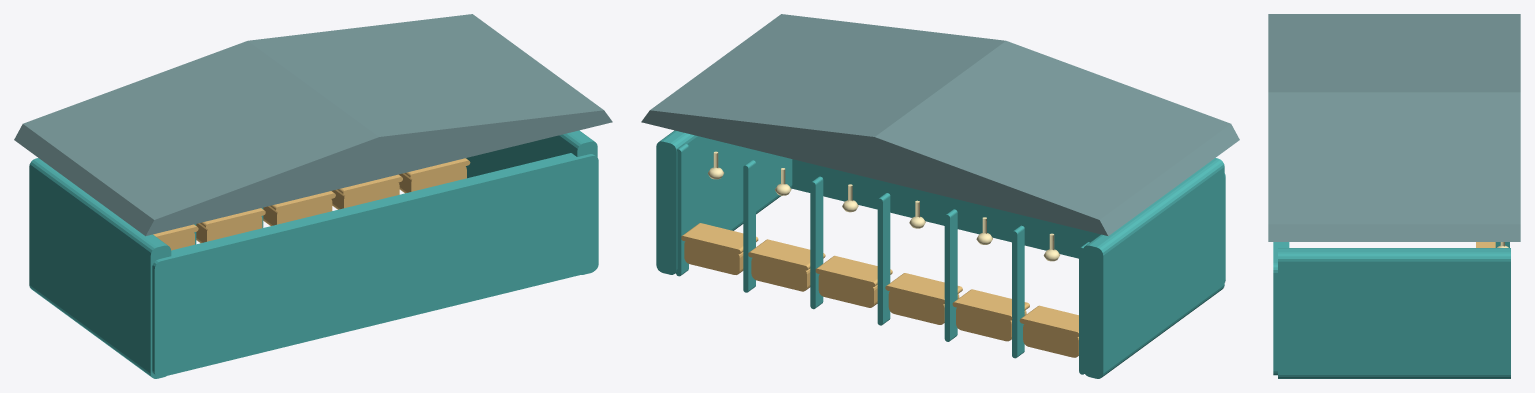
File: hawker-centre.glb
The picture shows the model from 3 angles, left to right: view 1: azimuth 30°, elevation 25°; view 2: azimuth 150°, elevation 25°; view 3: azimuth 270°, elevation 25°; orthographic projection. The views are drawn at different scales.
Parts seen in each view (by area): view 1: open_frontage, roof_profile, stall_rhythm; view 2: roof_profile, open_frontage, stall_rhythm, ceiling_light_housings; view 3: roof_profile, open_frontage.
Part boxes in pixels (bbox=[...]): open_frontage: bbox=[29, 130, 598, 378]; roof_profile: bbox=[14, 14, 612, 236]; stall_rhythm: bbox=[153, 158, 470, 250]; roof_profile: bbox=[641, 14, 1239, 236]; open_frontage: bbox=[656, 130, 1225, 378]; stall_rhythm: bbox=[681, 223, 1078, 357]; ceiling_light_housings: bbox=[707, 151, 1059, 261]; roof_profile: bbox=[1268, 14, 1520, 241]; open_frontage: bbox=[1273, 242, 1510, 378].
Bounding box in the file's own units: 16 × 6.3 × 7.8.
